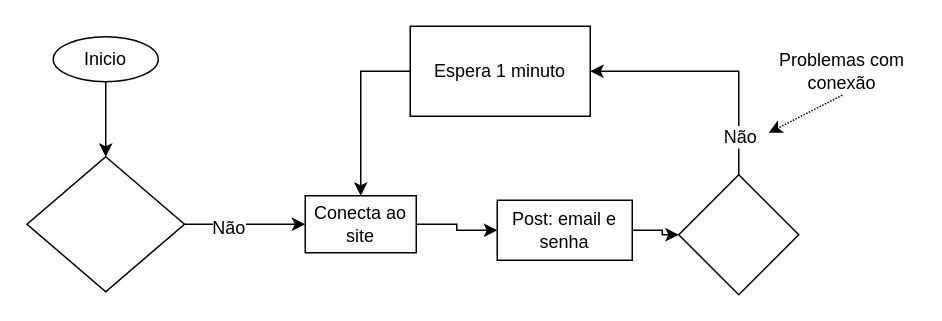
Some shapes in this 942 by 321 pixel diagram are drawn without their labels. The shapes that lost their labels are listed below. From the top down, each one's centre as x and y in pixels, then its label:
pixel 105 223: Há um token salvo?
pixel 738 234: HttpCode 200 ?
